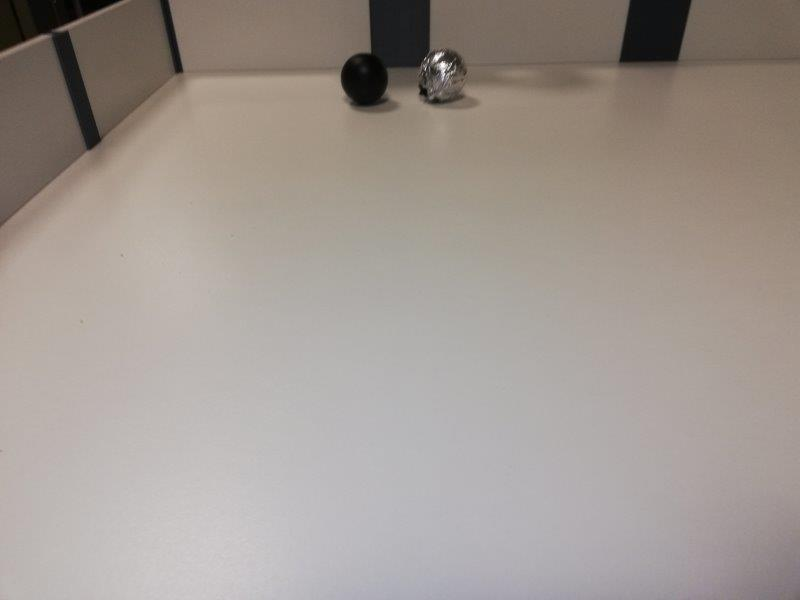bianca: (416, 50, 467, 101)
nera: (340, 52, 389, 106)
